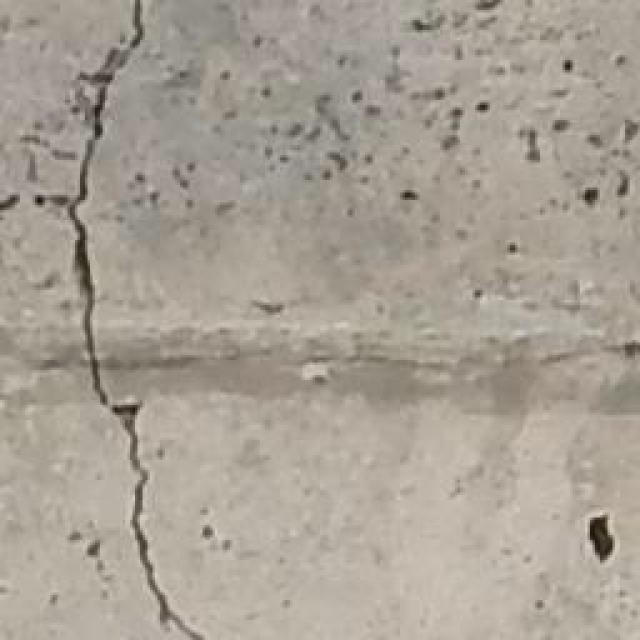concrete-crack: (71, 4, 204, 638), (589, 516, 615, 562), (36, 193, 69, 205), (2, 197, 21, 212)
